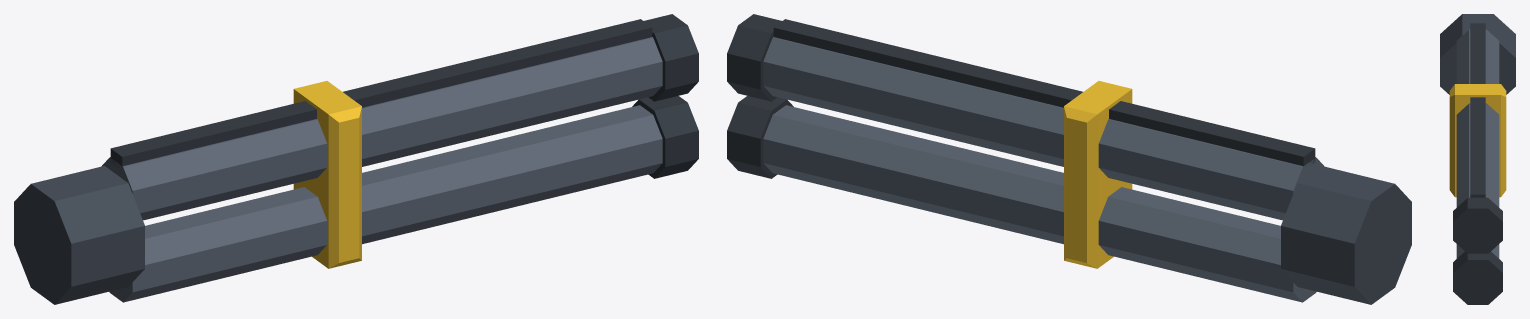
The model's file is barrel_twin.glb.
3 views of the same model, side by side, from view 1: azimuth 30°, elevation 25°; view 2: azimuth 150°, elevation 25°; view 3: azimuth 270°, elevation 25° (orthographic). The views are drawn at different scales.
Visible parts, largest first — view 1: barrel_twin; view 2: barrel_twin; view 3: barrel_twin.
Part boxes in pixels (x1,y1,x2,y2): barrel_twin: (14, 14, 698, 304); barrel_twin: (727, 14, 1411, 304); barrel_twin: (1440, 14, 1515, 304).
Size of the model in its own units: 0.19 by 0.044 by 0.0296.
